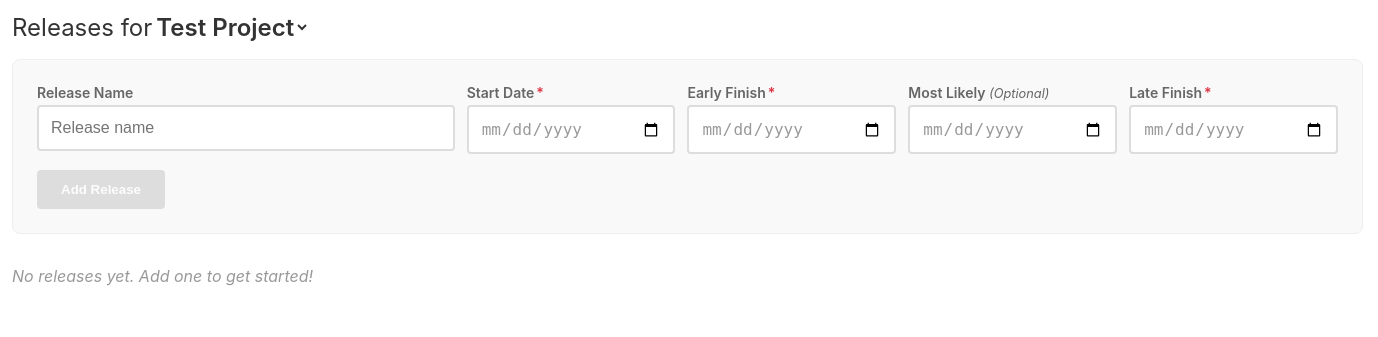
Test: ReleasesTab › work-week warnings (v15.0, v16.3 default Mon–Fri) › Save button remains enabled during warning state
Fill in valid release data with a Saturday start date
Type "Sprint 1" into the field with placeholder "Release Name". click: [246, 128]
box: [37,105,455,151]
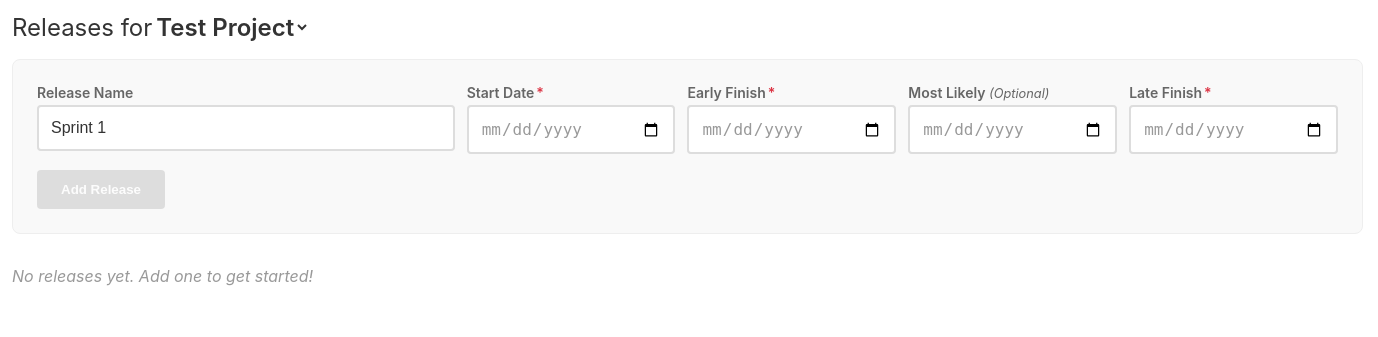
2026-01-03 is Saturday, 2026-03-01 is Sunday, 2026-06-01 is Monday
Type "2026-01-03" into the date field labelled "Start Date*". click: [571, 130]
box: [467,105,676,154]
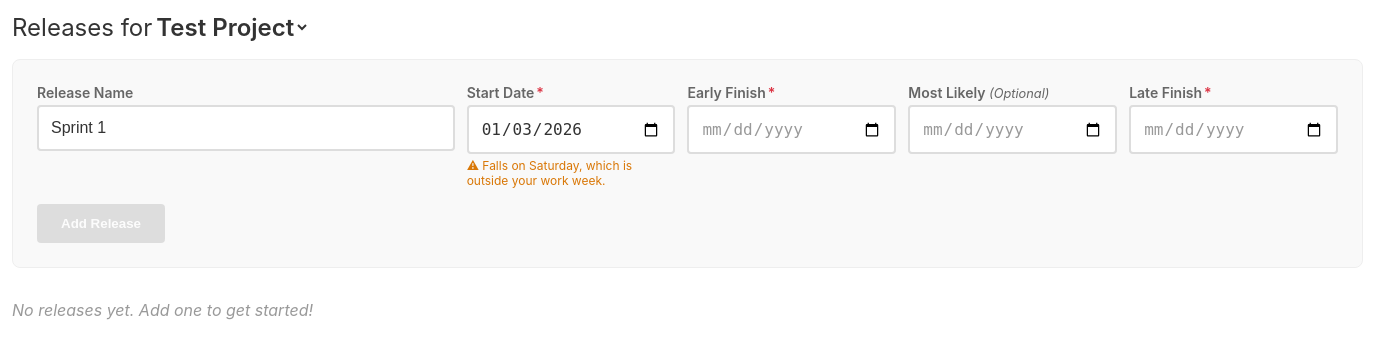
Type "2026-03-02" into the date field labelled "Early Finish*". click: [792, 130]
box: [688,105,896,154]
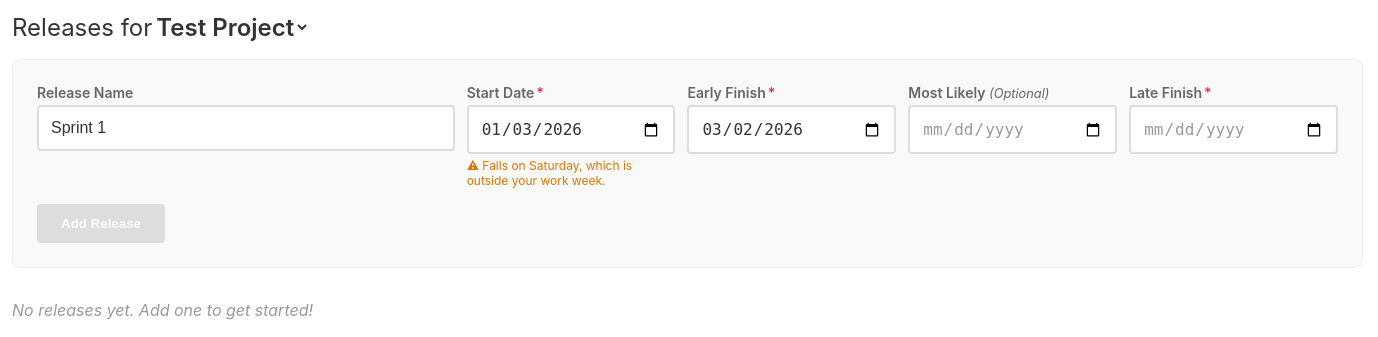
Type "2026-06-01" into the date field labelled "Late Finish*". click: [1234, 130]
box: [1129,105,1338,154]
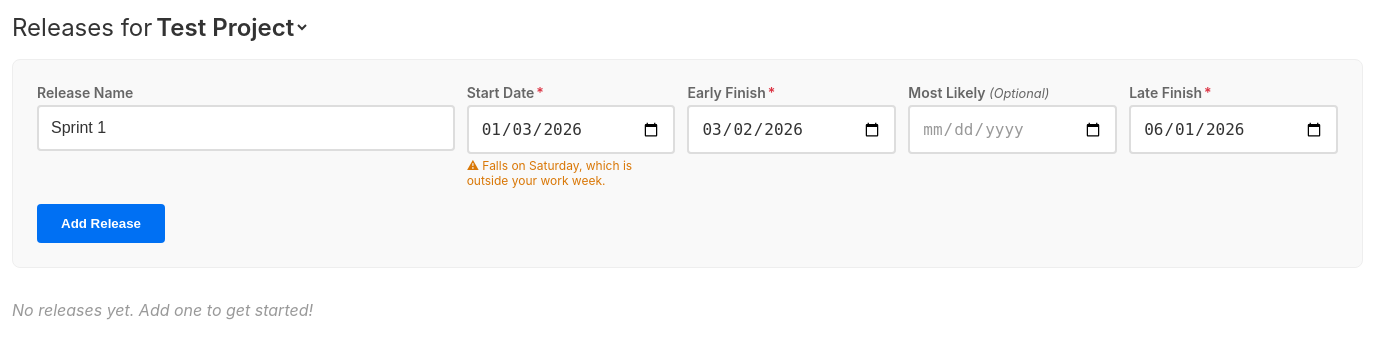
Expected: the text "⚠ Falls on Saturday, which is outside your work week." is shown, [467,158,632,188]
Expected: the button "Add Release" is enabled, [37,204,165,243]
